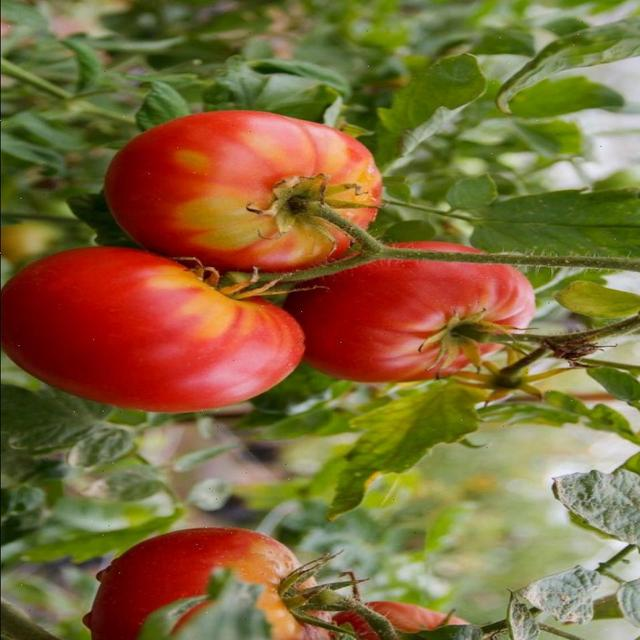Spotted wilt Virus Fruit: (103, 96, 273, 219)
